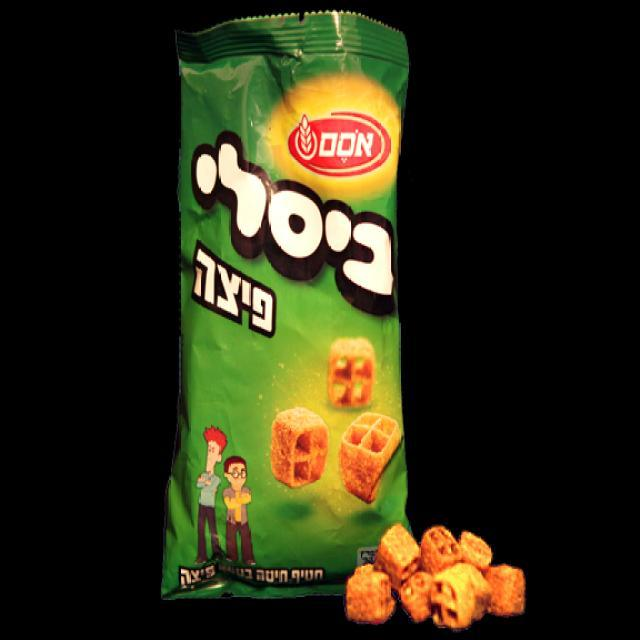Chips: (161, 12, 430, 618)
Chips packaged: (343, 514, 545, 640)
